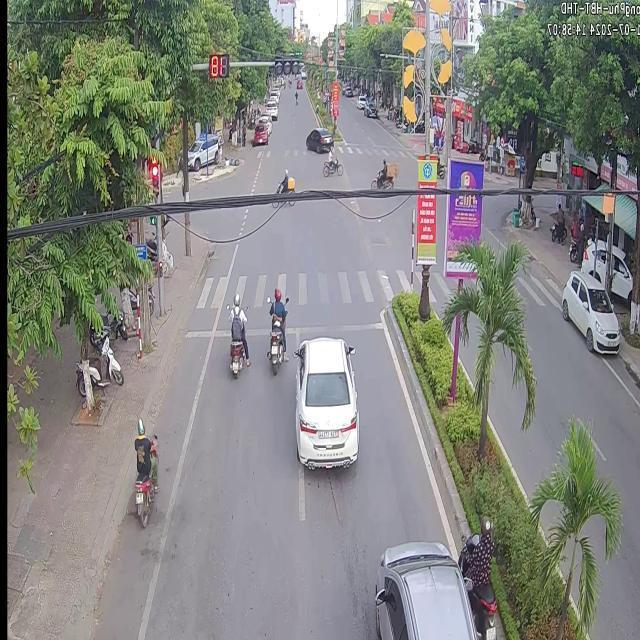car: (373, 540, 474, 638), (292, 336, 357, 467), (560, 269, 618, 351)
motobike: (458, 516, 498, 638), (132, 418, 157, 525), (227, 291, 249, 365), (266, 314, 282, 374)
red_light: (206, 54, 230, 77), (150, 155, 159, 199)
stop_line: (286, 320, 380, 335), (285, 319, 384, 333), (244, 327, 268, 335), (184, 329, 209, 336), (213, 327, 228, 336)
